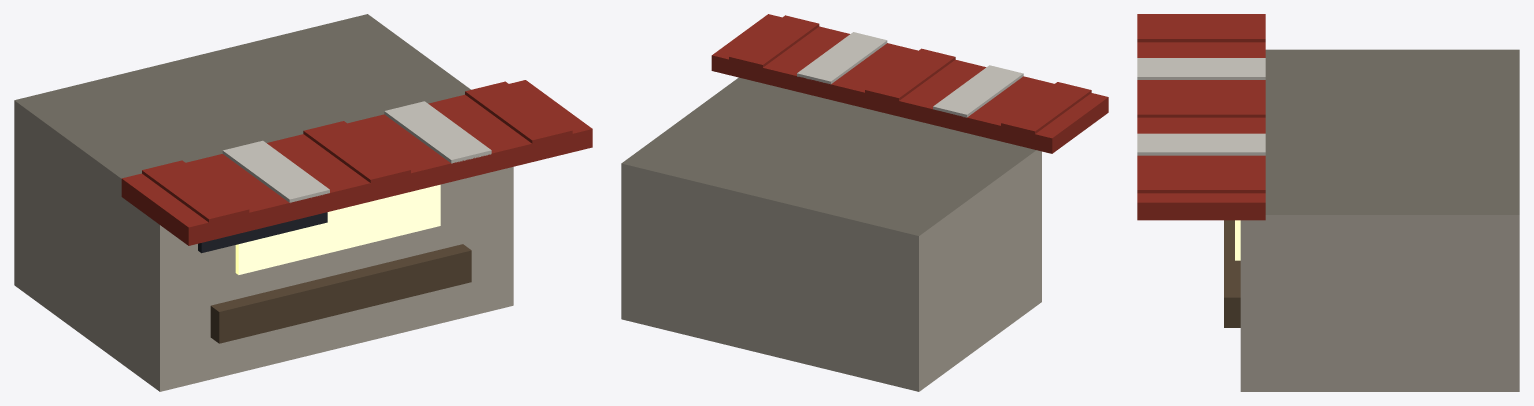
File: amul-high.glb
The picture shows the model from 3 angles, left to right: view 1: azimuth 30°, elevation 25°; view 2: azimuth 150°, elevation 25°; view 3: azimuth 270°, elevation 25°; orthographic projection. The views are drawn at different scales.
Bounding box in the file's own units: 16 × 8.07 × 13.7.
